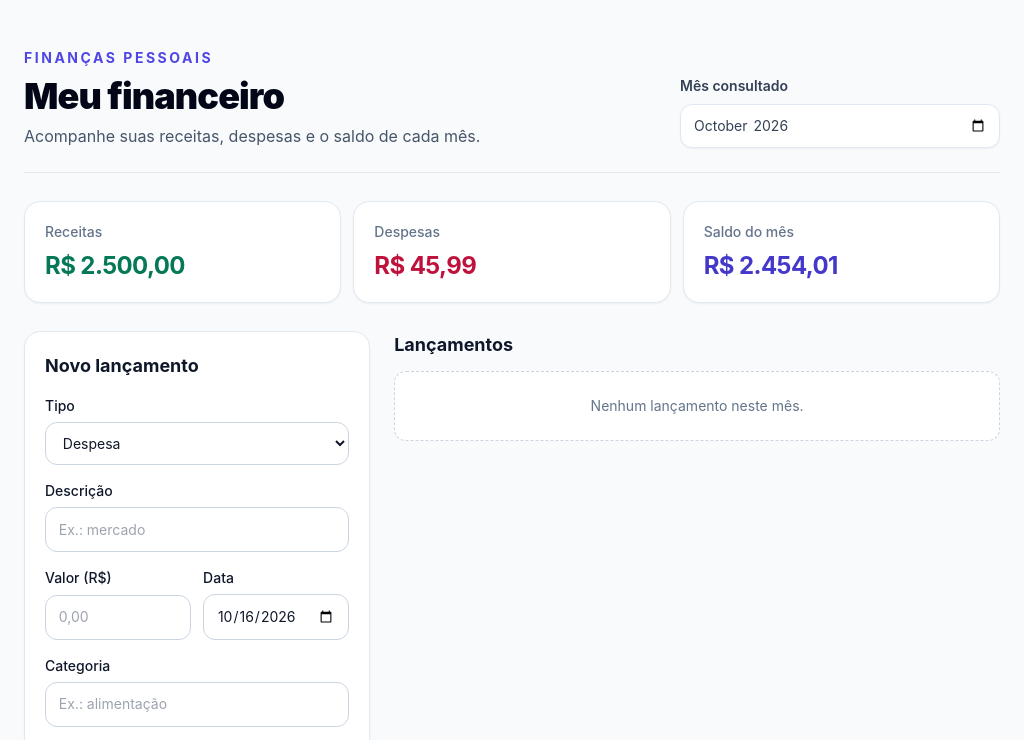
Test case: gerenciador financeiro › usa uma mensagem padrão se a API não informar detalhes do erro
Expected: the text "Nenhum lançamento neste mês." is shown, [394,371,1000,441]
Type "Compra" into the field labelled "Descrição" at (197, 530), box [45,507,349,552]
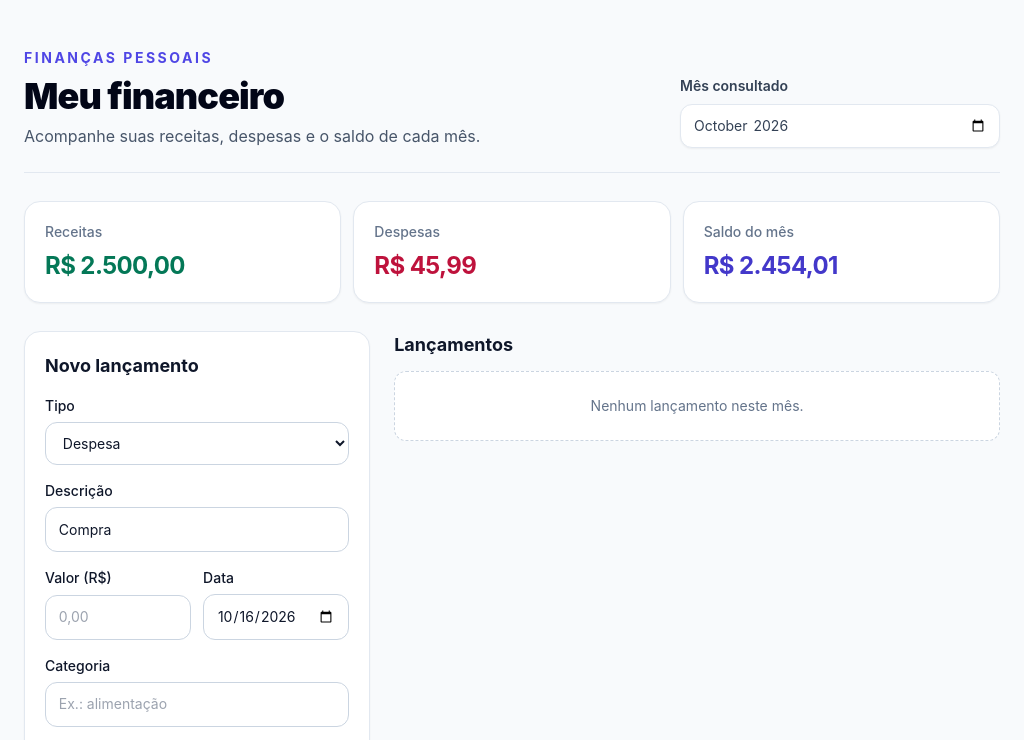
Type "10,00" into the field labelled "Valor (R$)" at (118, 618), box [45,595,191,640]
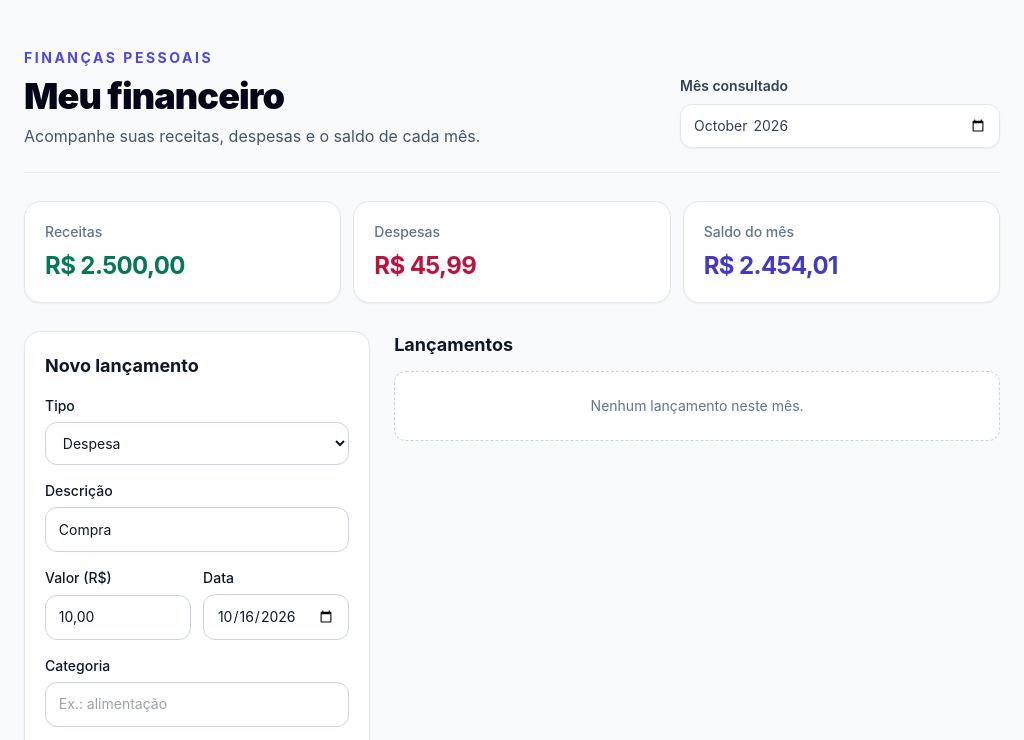
Type "Casa" into the field labelled "Categoria" at (197, 704), box [45,682,349,726]
(page scrolled)
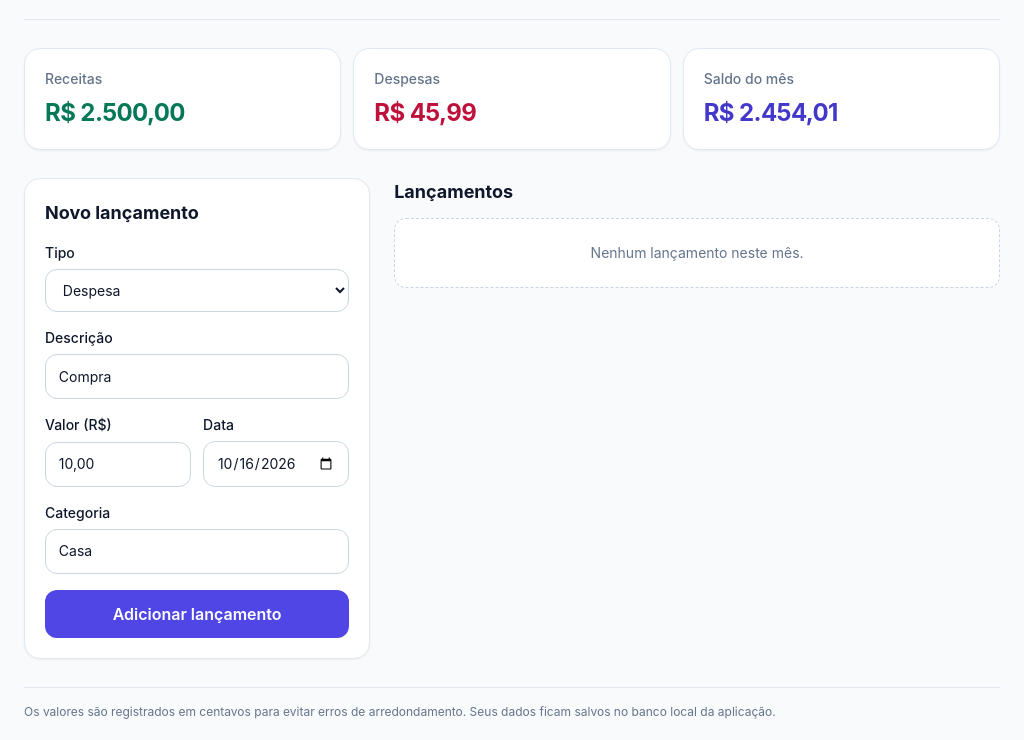
Click the button "Adicionar lançamento" at (197, 614), box [45,590,349,638]
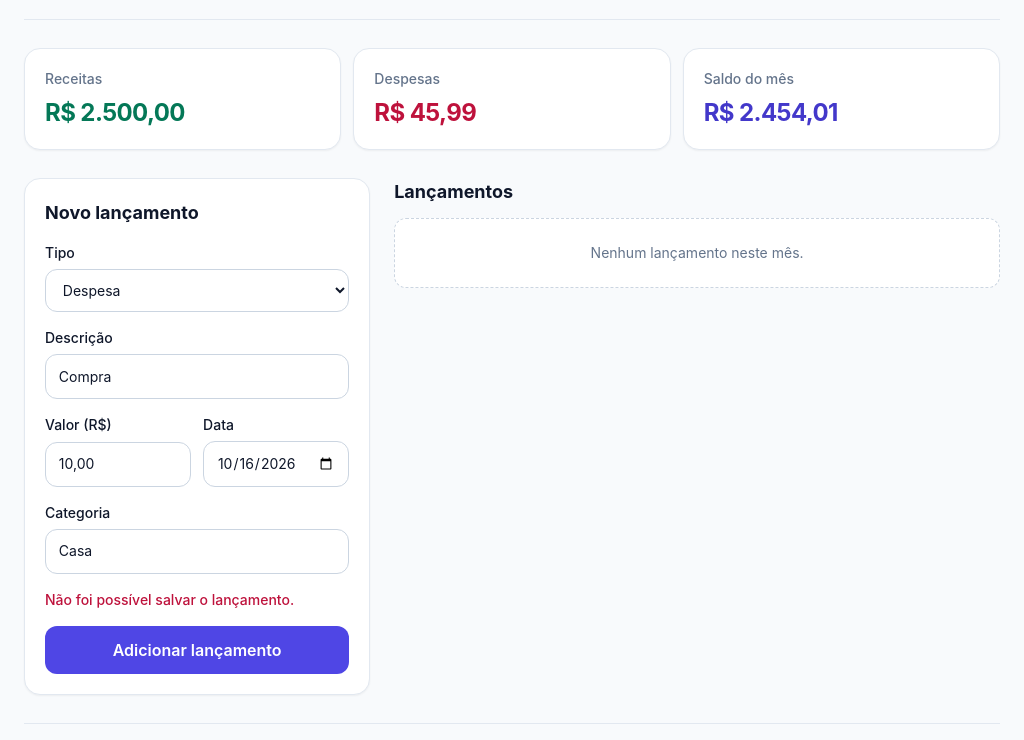
Now the message reads "Não foi possível salvar o lançamento.", box [45,590,294,608]
